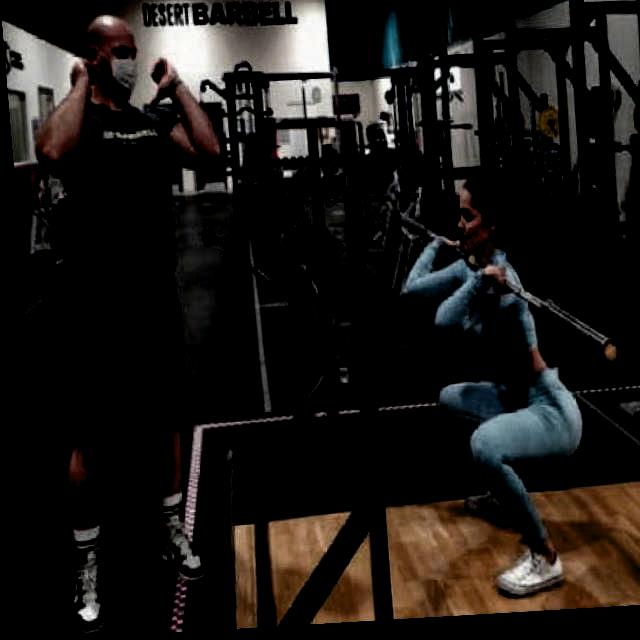barbell: (527, 285, 624, 390)
